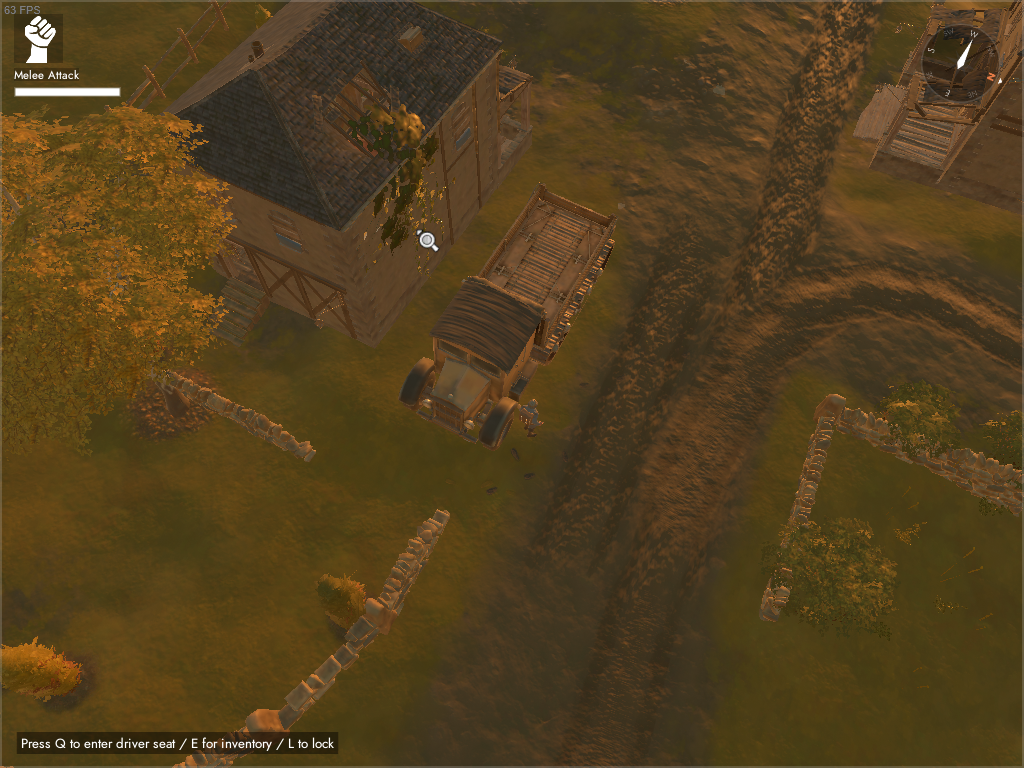flatbed: (394, 179, 627, 456)
player: (514, 394, 549, 443)
toggle_vehicle_operation: (14, 728, 341, 757)
